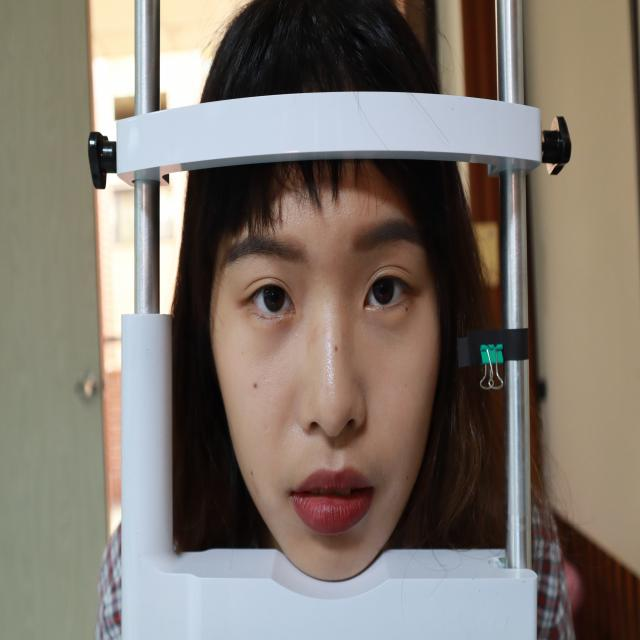eye: (350, 258, 425, 326), (229, 272, 303, 333)
gaze: (371, 274, 397, 308), (262, 281, 287, 313)
